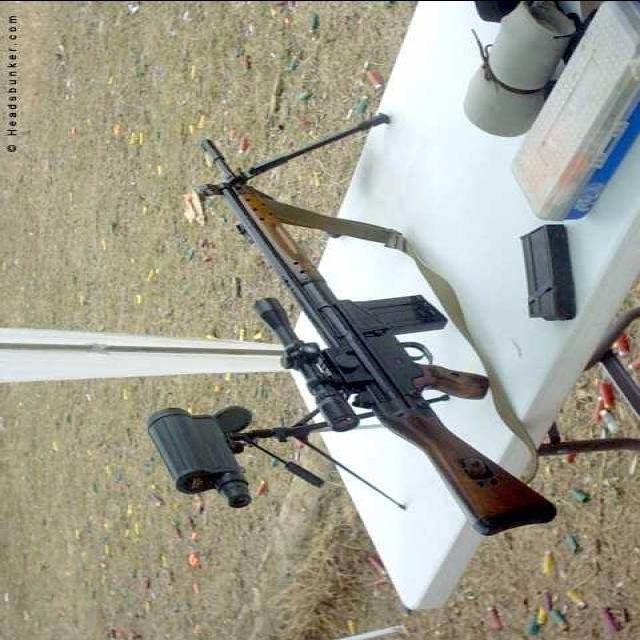heavyweapon: (148, 127, 558, 559)
